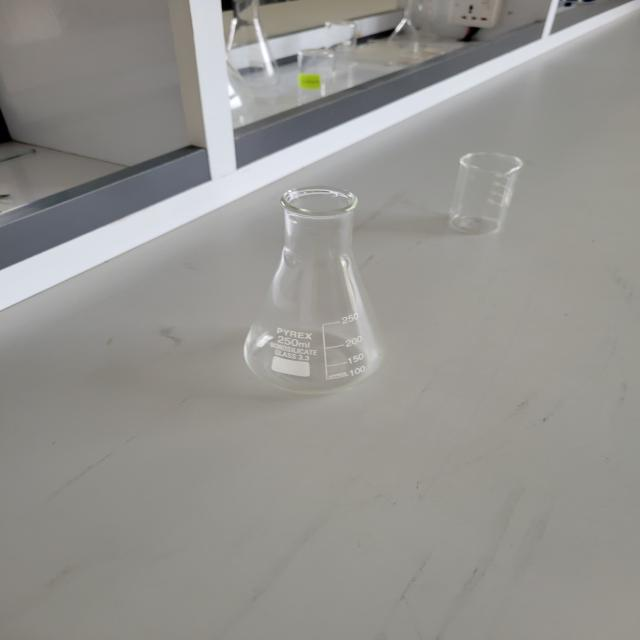Beaker: (426, 134, 539, 242)
Conical_Flask: (224, 168, 400, 420)
